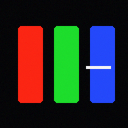3 line_h: (86, 66, 110, 68)
